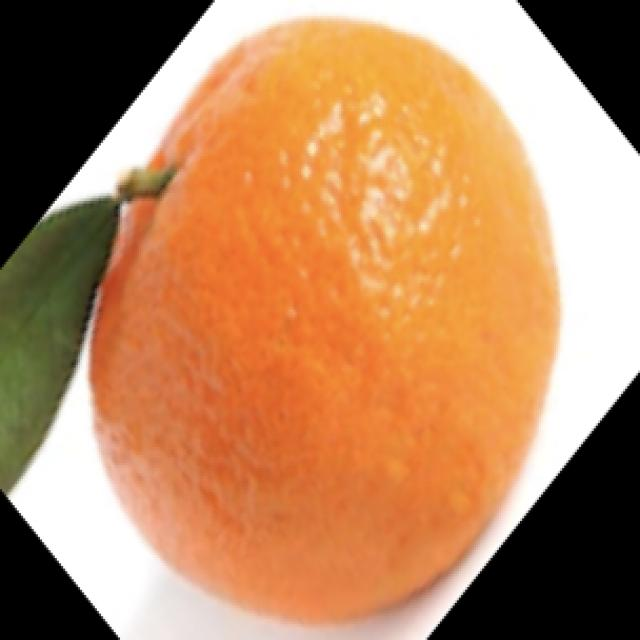fresh: (3, 11, 559, 624)
